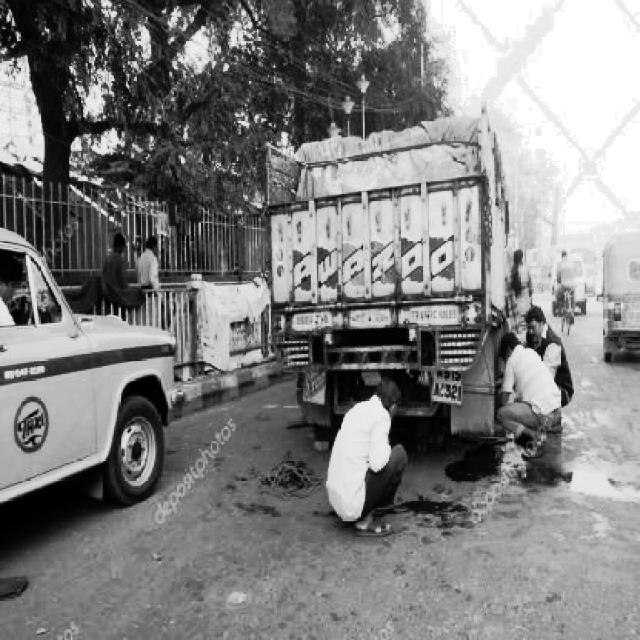HCV: (260, 156, 533, 437)
